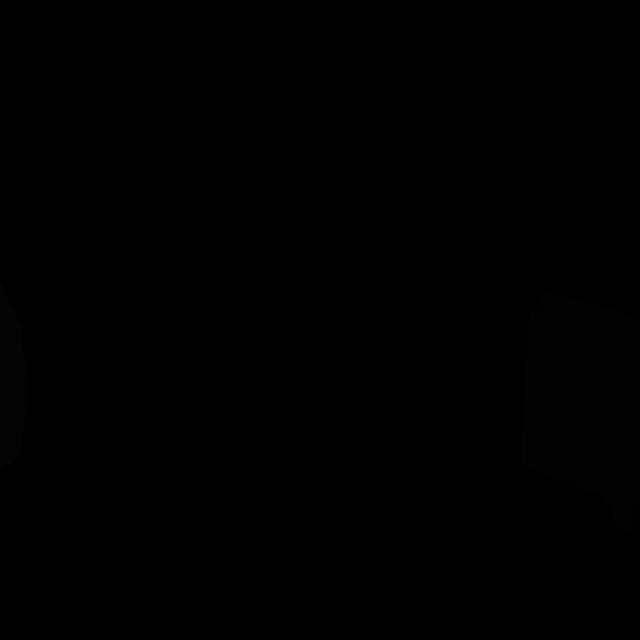cardboard: (521, 290, 640, 534)
soft_plastic: (0, 281, 27, 468)
